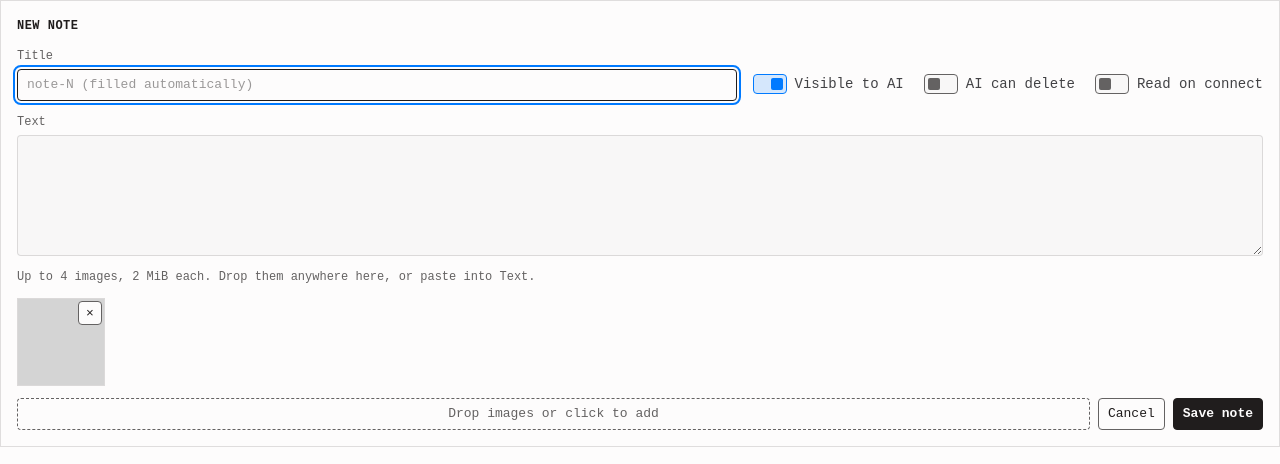
Scenario: pasting an image into the text area adds a removable thumbnail
Click the button "Save note": (1218, 414) [1173,398,1263,430]
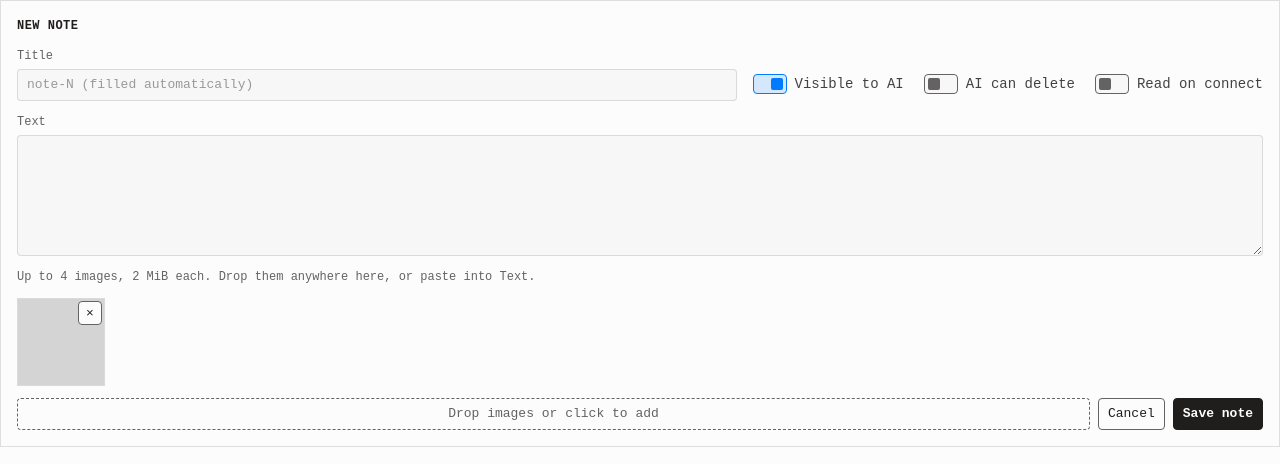
Click the button named "Remove image pasted-1": (90, 313) [78,301,102,325]
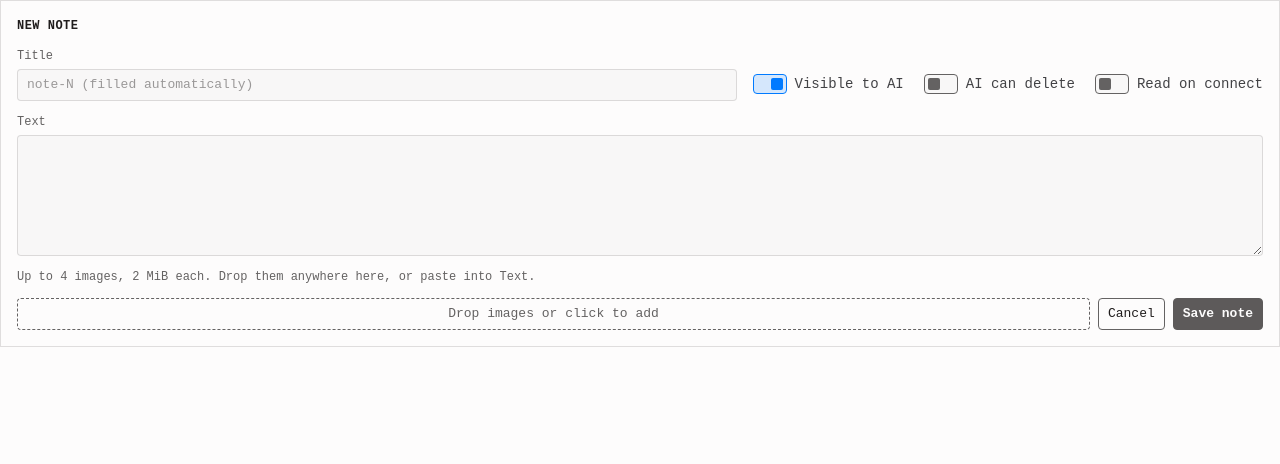
Check: the picture is gone
Check: the button "Save note" is disabled, box [1173,298,1263,330]
